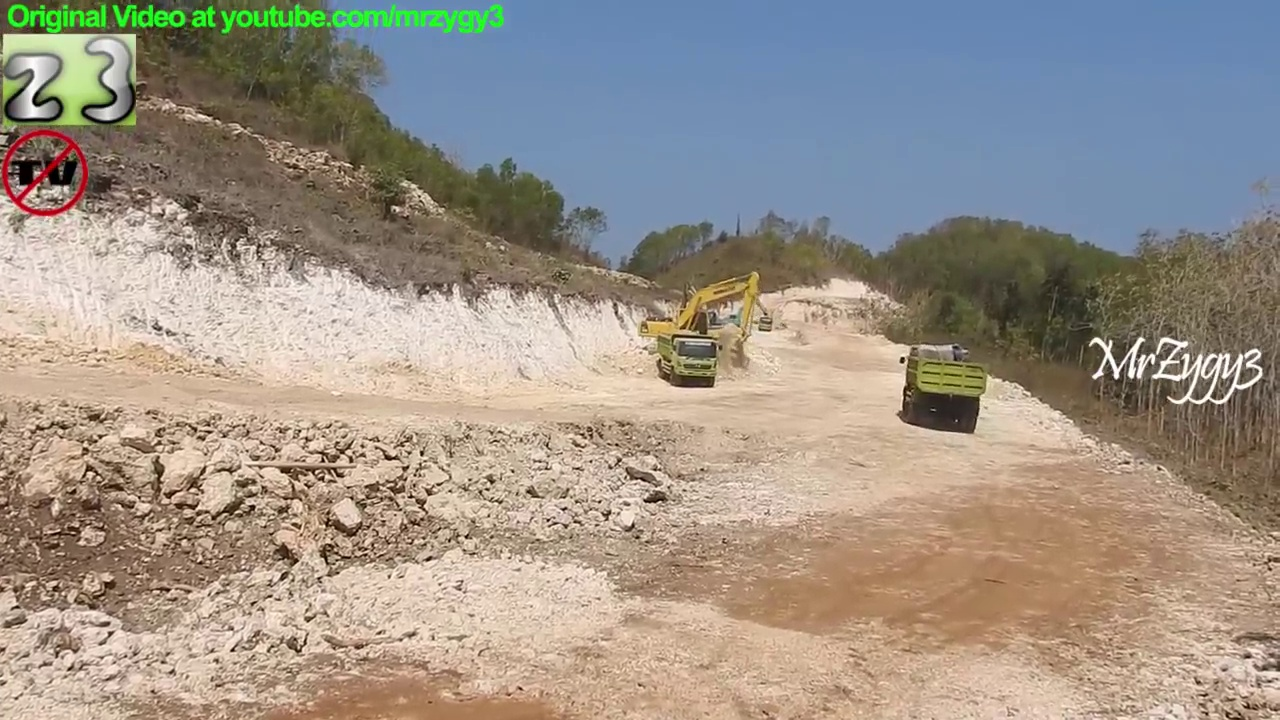excavator: (638, 271, 758, 359), (675, 282, 736, 348), (730, 289, 768, 328)
truck: (896, 338, 993, 437), (654, 330, 726, 388), (758, 313, 778, 336)
